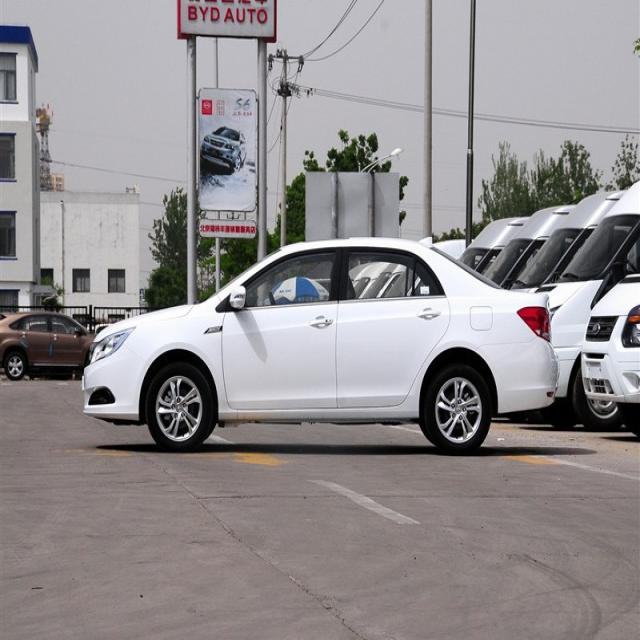back_left_side_light: (516, 305, 552, 342)
door: (338, 242, 452, 414)
front_bumper: (80, 344, 150, 426)
front_left_side_door: (222, 242, 343, 412)
front_left_side_light: (87, 326, 139, 364)
front_left_side_mirror: (229, 283, 248, 314)
rear_bumper: (477, 338, 561, 413)
wheel: (426, 364, 490, 452), (150, 361, 212, 449)
